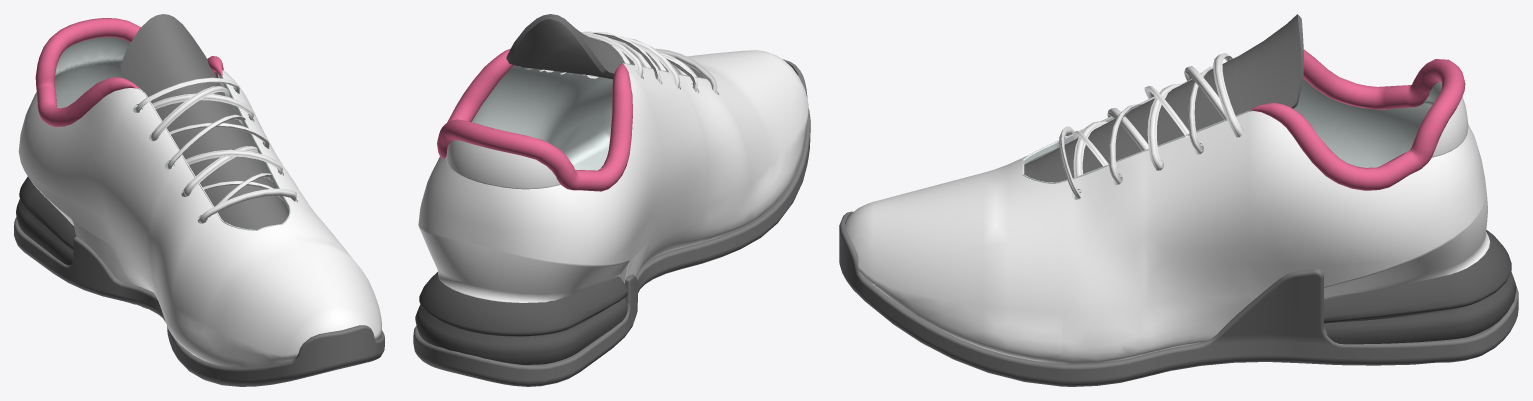
The model's file is Sneakers02-B.gltf.
The picture shows the model from 3 angles, left to right: view 1: azimuth 30°, elevation 25°; view 2: azimuth 150°, elevation 25°; view 3: azimuth 270°, elevation 25°; orthographic projection. The views are drawn at different scales.
Visible parts, largest first — view 1: 鞋皮, 上掀蓋, 鞋底, 小飾, 內側, 後飾, CloseSurface.8(8), CloseSurface.8(5), CloseSurface.8(1), CloseSurface.8(6), CloseSurface.8(3), CloseSurface.8(2) (+2 smaller); view 2: 鞋皮, 後飾, 內側, 鞋底, 小飾, 上掀蓋, CloseSurface.8(5), CloseSurface.8(8), CloseSurface.8(7), CloseSurface.8(1); view 3: 鞋皮, 鞋底, 後飾, 上掀蓋, 小飾, 內側, CloseSurface.8(8), CloseSurface.8(5), CloseSurface.8(2), CloseSurface.8(6), CloseSurface.8(1).
Boxes of the visible parts, box(x1,y1,x2,y2) form: 鞋皮: box(18, 70, 381, 367); 上掀蓋: box(120, 14, 288, 229); 鞋底: box(14, 217, 384, 386); 小飾: box(35, 18, 223, 126); 內側: box(54, 37, 296, 230); 後飾: box(16, 176, 76, 265); CloseSurface.8(8): box(135, 77, 253, 120); CloseSurface.8(5): box(198, 173, 296, 223); CloseSurface.8(1): box(151, 86, 229, 140); CloseSurface.8(6): box(168, 149, 282, 174); CloseSurface.8(3): box(183, 146, 258, 195); CloseSurface.8(2): box(151, 123, 269, 148); 鞋皮: box(418, 50, 808, 302); 後飾: box(415, 272, 628, 364); 內側: box(472, 63, 717, 170); 鞋底: box(413, 59, 810, 386); 小飾: box(437, 49, 632, 191); 上掀蓋: box(506, 14, 705, 79); CloseSurface.8(5): box(587, 48, 717, 93); CloseSurface.8(8): box(581, 32, 643, 78); CloseSurface.8(7): box(544, 36, 680, 88); CloseSurface.8(1): box(524, 31, 660, 82); 鞋皮: box(845, 79, 1490, 364); 鞋底: box(839, 211, 1518, 386); 後飾: box(1324, 230, 1516, 344); 上掀蓋: box(1024, 14, 1303, 182); 小飾: box(1249, 49, 1465, 190); 內側: box(1022, 78, 1441, 199); CloseSurface.8(8): box(1188, 53, 1243, 152); CloseSurface.8(5): box(1059, 126, 1121, 197); CloseSurface.8(2): box(1147, 83, 1182, 168); CloseSurface.8(6): box(1108, 103, 1143, 182); CloseSurface.8(1): box(1184, 66, 1239, 137).
Size of the model in its own units: 23 by 30.05 by 58.85.
